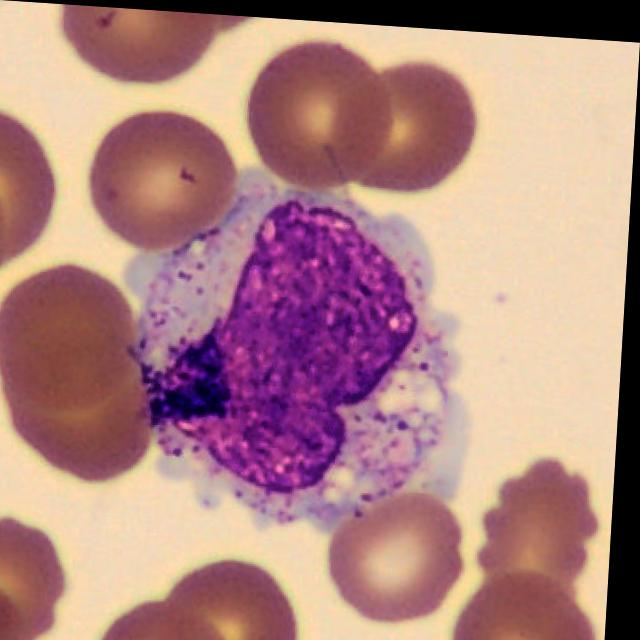Monocito: (133, 179, 454, 513)
